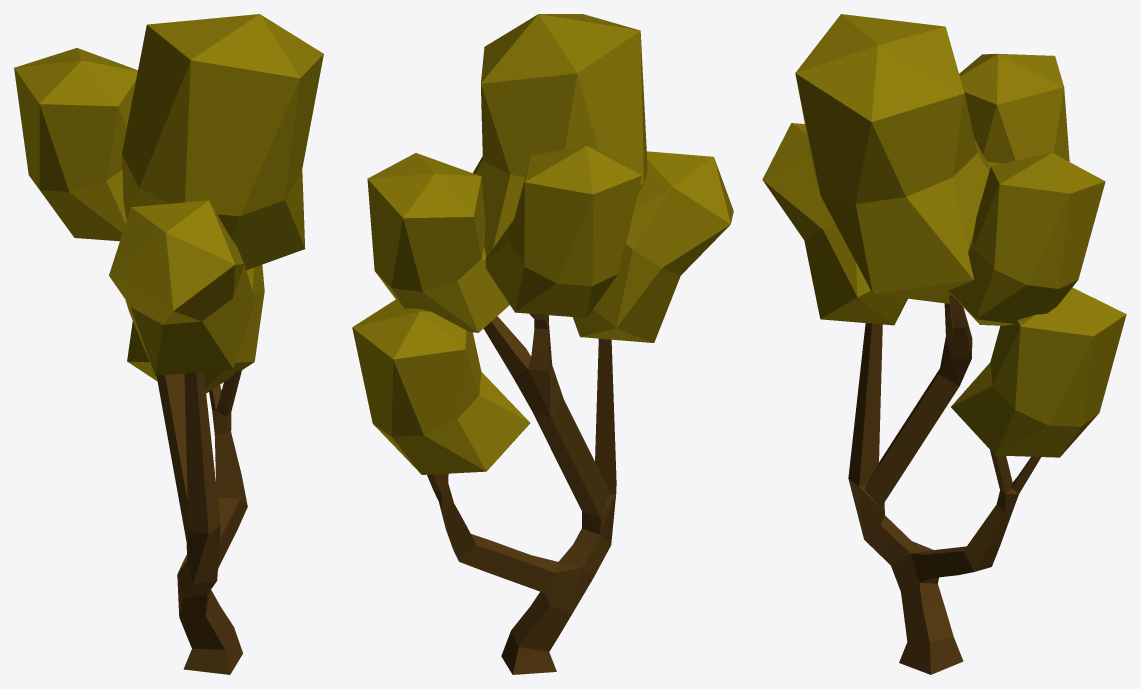
Rendered from Tree1.fbx.
3 views of the same model, side by side, from view 1: azimuth 30°, elevation 25°; view 2: azimuth 150°, elevation 25°; view 3: azimuth 270°, elevation 25° (orthographic). The views are drawn at different scales.
Parts seen in each view (by area): view 1: Icosphere.030; view 2: Icosphere.030; view 3: Icosphere.030.
Part boxes in pixels (bbox=[...]): Icosphere.030: bbox=[14, 14, 323, 674]; Icosphere.030: bbox=[352, 14, 733, 674]; Icosphere.030: bbox=[762, 14, 1126, 674].
Bounding box in the file's own units: 12.5 × 29.74 × 15.68.
